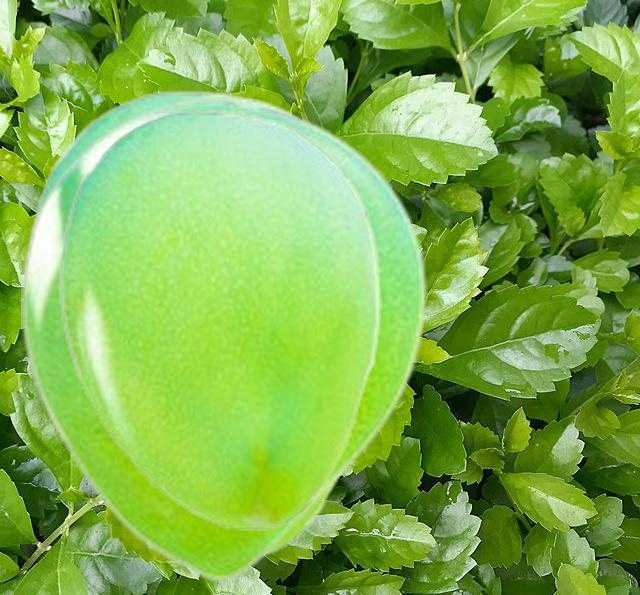green_mango: (21, 97, 426, 582), (24, 89, 349, 557), (57, 109, 380, 529)
